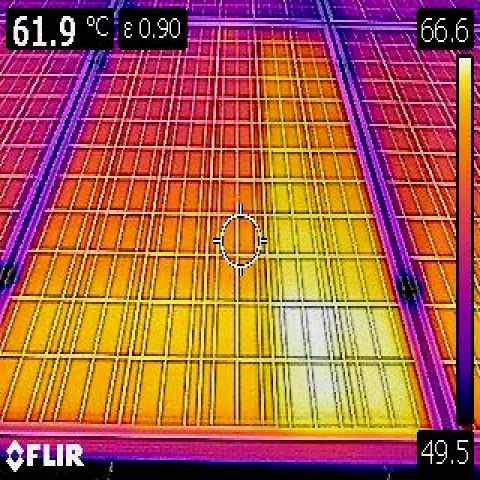fault: (254, 24, 428, 432)
